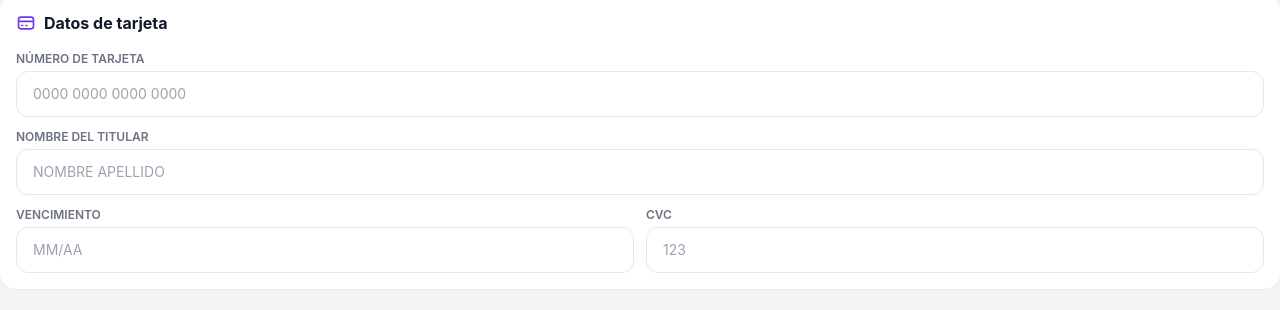
CardForm › should show error on blur when card number is invalid
This screenshot has width=1280, height=310.
Type "1234" into the field with placeholder "0000 0000 0000 0000".
click(640, 94); type("1234")  # box [16,71,1264,117]
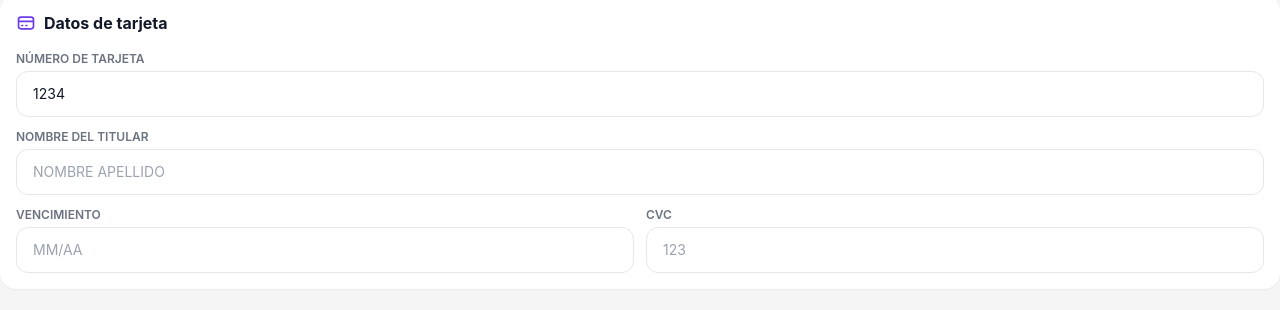
Leave the field with placeholder "0000 0000 0000 0000", box [16,71,1264,117]
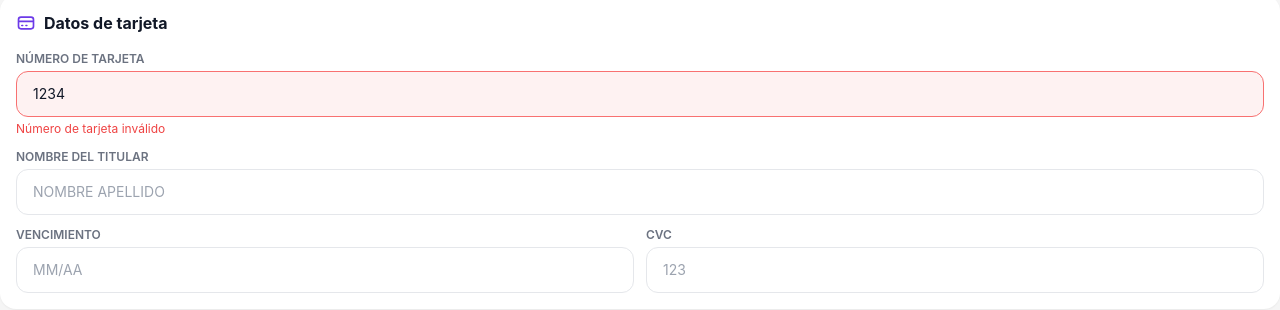
Result: the text "Número de tarjeta inválido" is shown at [16,121,165,136]
